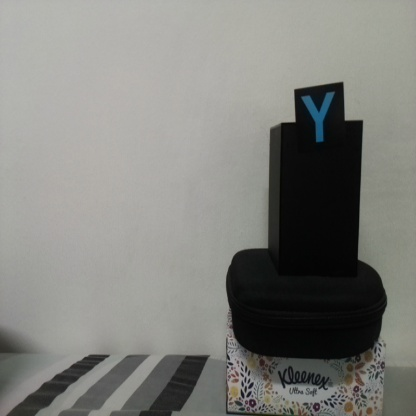id_14: (294, 88, 346, 151)
